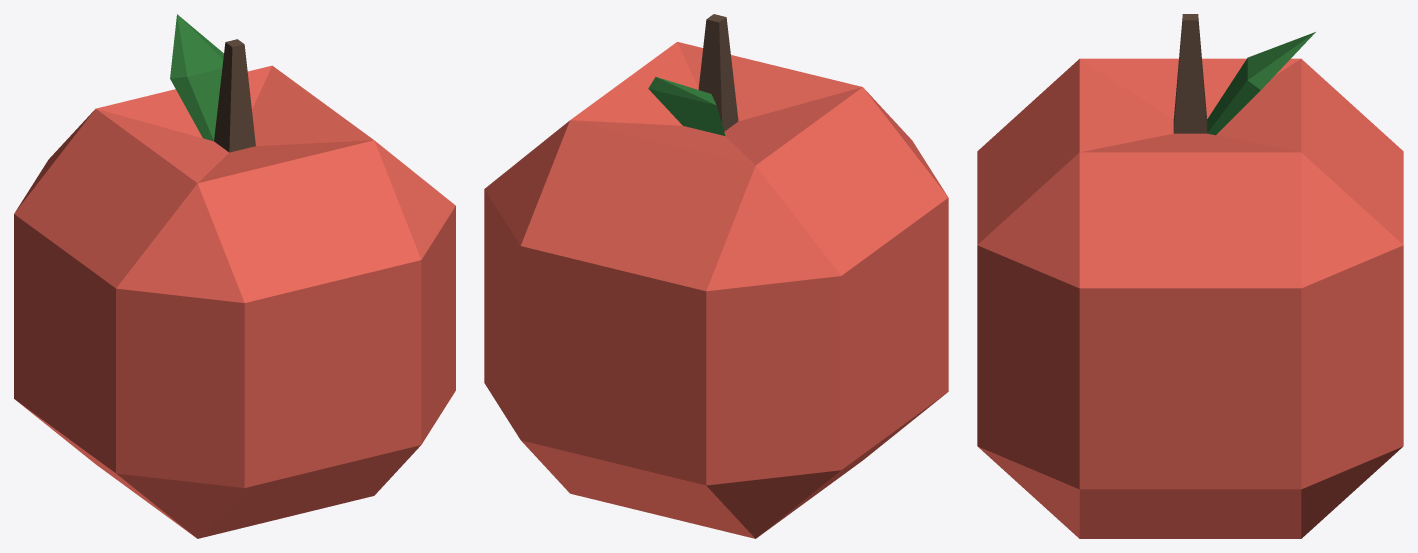
File: apple.fbx
3 views of the same model, side by side, from view 1: azimuth 30°, elevation 25°; view 2: azimuth 150°, elevation 25°; view 3: azimuth 270°, elevation 25° (orthographic). The views are drawn at different scales.
Parts seen in each view (by area): view 1: Cube.001; view 2: Cube.001; view 3: Cube.001.
Boxes of the visible parts, box(x1,y1,x2,y2) form: Cube.001: box(14, 14, 455, 538); Cube.001: box(484, 14, 948, 538); Cube.001: box(977, 14, 1403, 538).
Size of the model in its own units: 8.92 by 10.96 by 8.92.
